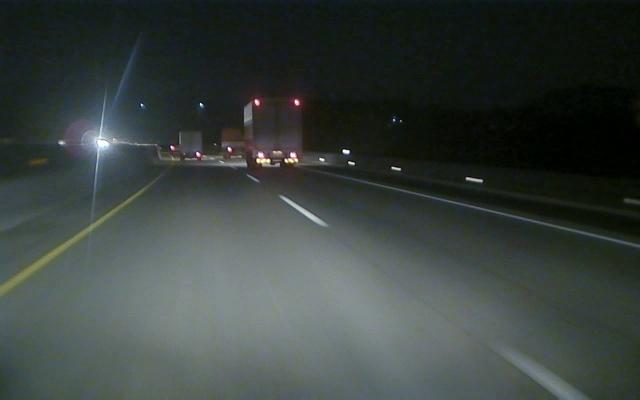lane: (277, 193, 601, 400), (332, 174, 638, 249), (2, 195, 135, 295)
